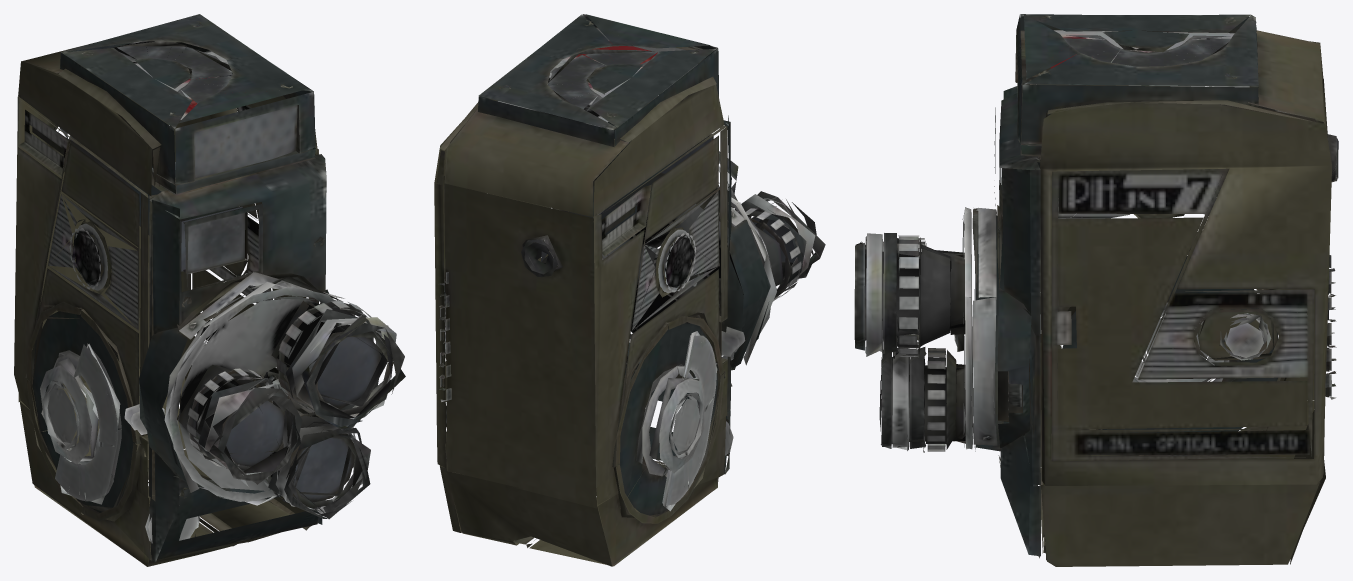
The model's file is isl_vcam.glb.
3 renders of one model, left to right at view 1: azimuth 30°, elevation 25°; view 2: azimuth 150°, elevation 25°; view 3: azimuth 270°, elevation 25°, orthographic. The views are drawn at different scales.
Visible parts, largest first — view 1: vintage_video_camera; view 2: vintage_video_camera; view 3: vintage_video_camera.
Part boxes in pixels (x1,y1,x2,y2): vintage_video_camera: [14, 14, 405, 566]; vintage_video_camera: [434, 14, 825, 566]; vintage_video_camera: [854, 14, 1338, 566].
Bounding box in the file's own units: 0.0719 × 0.1445 × 0.1321.
2 materials, 2 textured.
